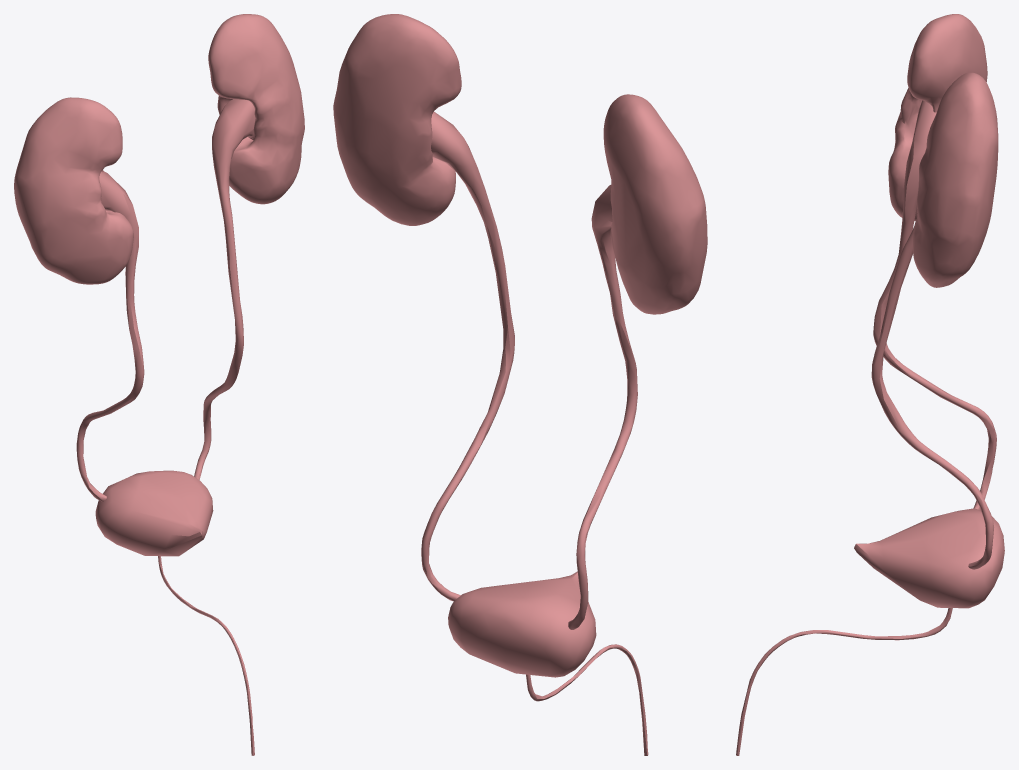
The model's file is male-urinary.glb.
The picture shows the model from 3 angles, left to right: view 1: azimuth 30°, elevation 25°; view 2: azimuth 150°, elevation 25°; view 3: azimuth 270°, elevation 25°; orthographic projection. The views are drawn at different scales.
Visible parts, largest first — view 1: FJ3147, FJ3145, FJ3149, FJ3144, FJ3146, FJ3148; view 2: FJ3145, FJ3147, FJ3149, FJ3144, FJ3146, FJ3148; view 3: FJ3145, FJ3149, FJ3147, FJ3146, FJ3144, FJ3148.
Boxes of the visible parts, x1=… form: FJ3147: x1=14, y1=97, x2=133, y2=284; FJ3145: x1=208, y1=14, x2=304, y2=204; FJ3149: x1=95, y1=470, x2=213, y2=556; FJ3144: x1=194, y1=99, x2=255, y2=479; FJ3146: x1=76, y1=171, x2=144, y2=501; FJ3148: x1=158, y1=556, x2=254, y2=755; FJ3145: x1=333, y1=14, x2=461, y2=225; FJ3147: x1=603, y1=94, x2=707, y2=314; FJ3149: x1=448, y1=571, x2=596, y2=677; FJ3144: x1=421, y1=111, x2=514, y2=601; FJ3146: x1=568, y1=185, x2=637, y2=629; FJ3148: x1=526, y1=644, x2=648, y2=755; FJ3145: x1=913, y1=72, x2=998, y2=287; FJ3149: x1=854, y1=508, x2=1004, y2=608; FJ3147: x1=888, y1=14, x2=987, y2=220; FJ3146: x1=873, y1=100, x2=996, y2=510; FJ3144: x1=871, y1=226, x2=993, y2=569; FJ3148: x1=736, y1=608, x2=952, y2=755.
Size of the model in its own units: 0.178 by 0.3819 by 0.1276.
